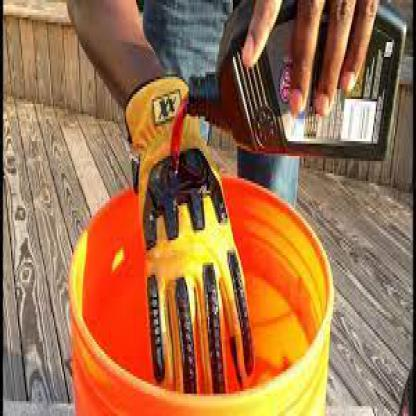glove: (124, 74, 255, 396)
